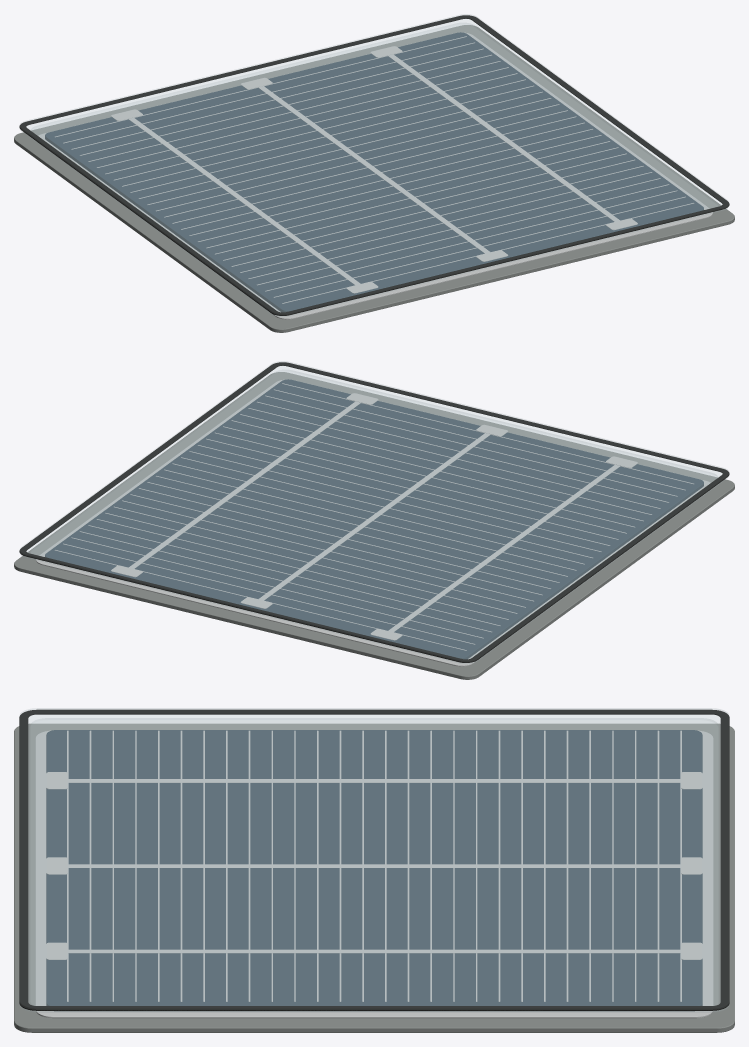
The model's file is solar_si-solar.glb.
3 renders of one model, top to bottom at view 1: azimuth 30°, elevation 25°; view 2: azimuth 150°, elevation 25°; view 3: azimuth 270°, elevation 25°, orthographic. The views are drawn at different scales.
Parts seen in each view (by area): view 1: Cover_glass, Encapsulant, Silicon_junction, Backsheet, Front_fingers, Device_edge_seal.004, Front_busbars, Back_contact, Cell_contact_lands; view 2: Cover_glass, Encapsulant, Silicon_junction, Backsheet, Front_fingers, Device_edge_seal.004, Front_busbars, Back_contact, Cell_contact_lands; view 3: Cover_glass, Encapsulant, Silicon_junction, Backsheet, Front_fingers, Device_edge_seal.004, Back_contact, Front_busbars, Cell_contact_lands.
Part boxes in pixels (bbox=[...]): Cover_glass: bbox=[20, 14, 728, 316]; Encapsulant: bbox=[31, 23, 717, 311]; Silicon_junction: bbox=[45, 32, 703, 312]; Backsheet: bbox=[14, 25, 734, 332]; Front_fingers: bbox=[55, 36, 693, 303]; Device_edge_seal.004: bbox=[19, 15, 729, 315]; Front_busbars: bbox=[128, 54, 619, 284]; Back_contact: bbox=[37, 32, 712, 319]; Cell_contact_lands: bbox=[111, 46, 637, 293]; Cover_glass: bbox=[20, 361, 728, 663]; Encapsulant: bbox=[31, 370, 717, 658]; Silicon_junction: bbox=[45, 379, 703, 659]; Backsheet: bbox=[14, 372, 734, 679]; Front_fingers: bbox=[55, 383, 693, 650]; Device_edge_seal.004: bbox=[19, 362, 729, 662]; Front_busbars: bbox=[129, 401, 620, 631]; Back_contact: bbox=[36, 379, 711, 666]; Cell_contact_lands: bbox=[111, 393, 637, 640]; Cover_glass: bbox=[20, 708, 728, 1012]; Encapsulant: bbox=[31, 718, 717, 1005]; Silicon_junction: bbox=[46, 730, 702, 1011]; Backsheet: bbox=[14, 723, 734, 1032]; Front_fingers: bbox=[67, 730, 681, 1001]; Device_edge_seal.004: bbox=[19, 709, 729, 1010]; Back_contact: bbox=[35, 730, 713, 1018]; Front_busbars: bbox=[68, 779, 680, 953]; Cell_contact_lands: bbox=[46, 772, 702, 959].
Bounding box in the file's own units: 0.125 × 0.00435 × 0.125.
